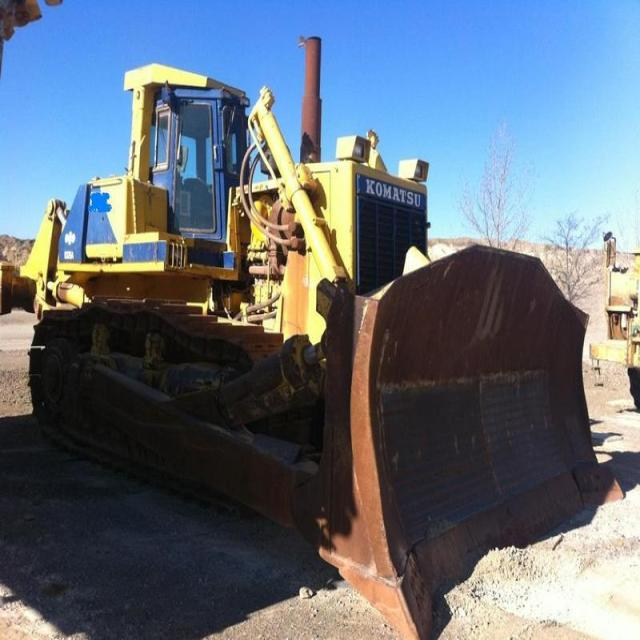buldozerpayloadergrader: (22, 39, 626, 639)
